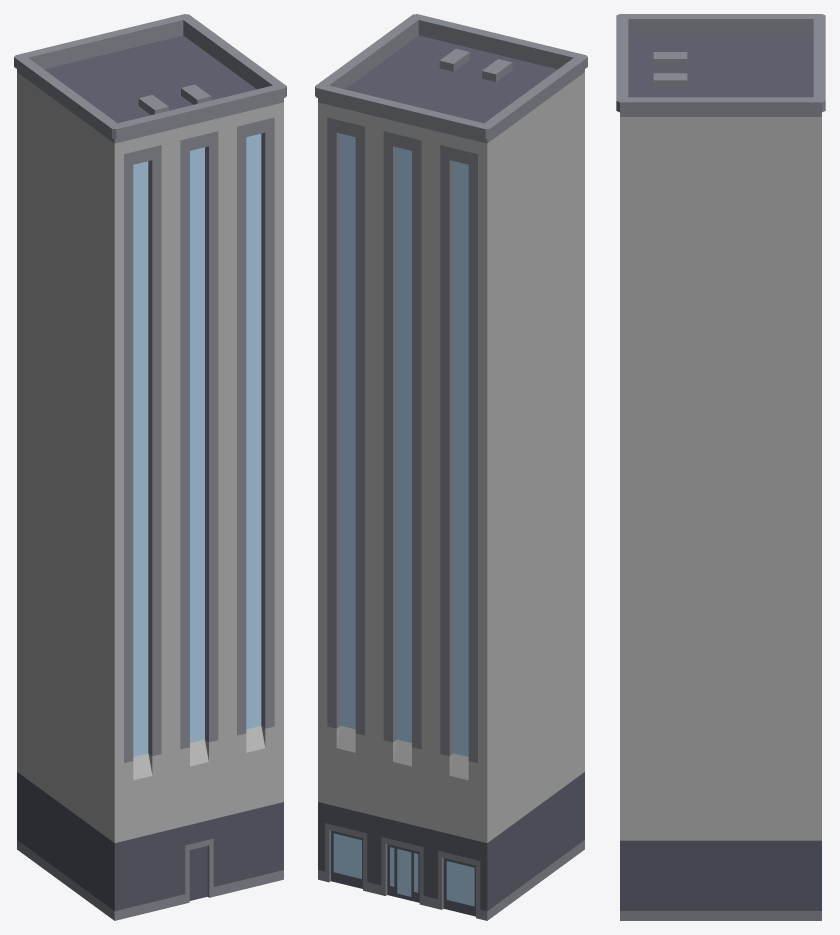
The model's file is residential-A3.glb.
3 views of the same model, side by side, from view 1: azimuth 30°, elevation 25°; view 2: azimuth 150°, elevation 25°; view 3: azimuth 270°, elevation 25° (orthographic). The views are drawn at different scales.
Parts seen in each view (by area): view 1: skyscraperF; view 2: skyscraperF; view 3: skyscraperF.
Boxes of the visible parts, left/top/right/bottom form: skyscraperF: left=14, top=14, right=286, bottom=920; skyscraperF: left=315, top=14, right=587, bottom=920; skyscraperF: left=616, top=14, right=825, bottom=920.
Size of the model in its own units: 0.9424 by 4.08 by 0.9424.
